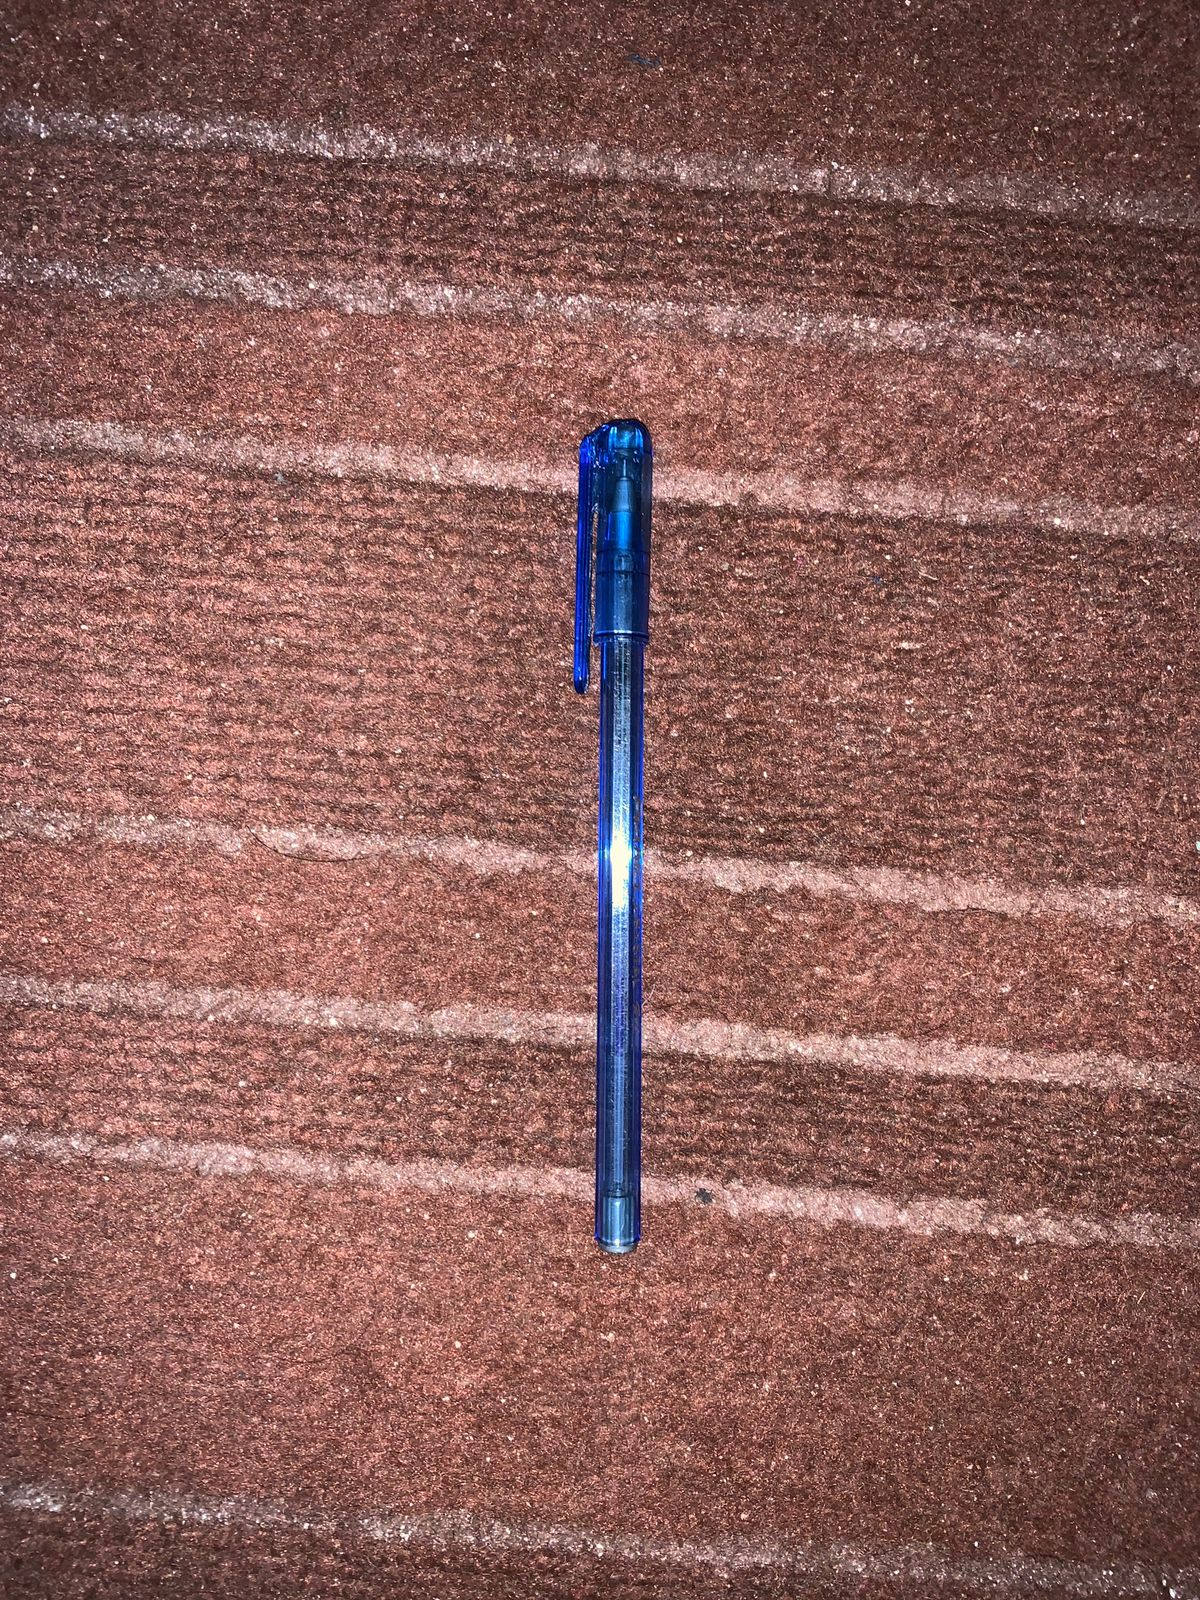pen: (397, 317, 846, 1392)
